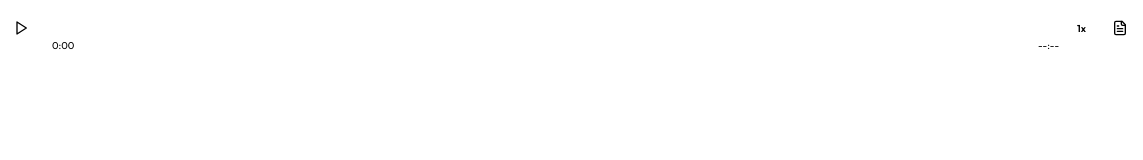
it: AudioMessagePlayer - Playback Speed Controls › speed state persists across play/pause cycles
Note: Set speed to 1.5x
Click the button titled "Velocidade".
click(1082, 29)  # box left=1071, top=17, right=1092, bottom=41
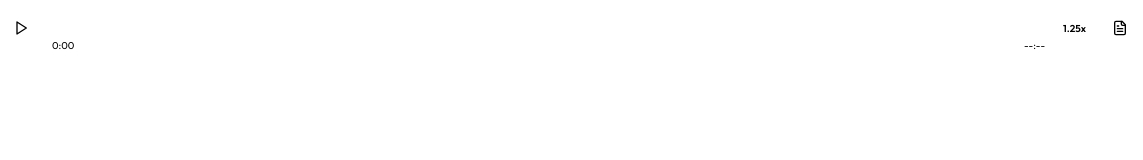
Click the button titled "Velocidade".
click(1075, 29)  # box left=1057, top=17, right=1092, bottom=41
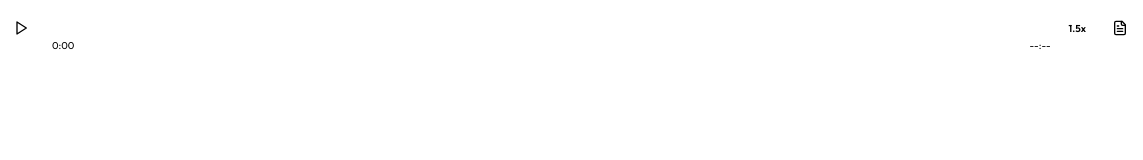
Now the button titled "Velocidade" reads "1.5x", box left=1063, top=17, right=1092, bottom=41
